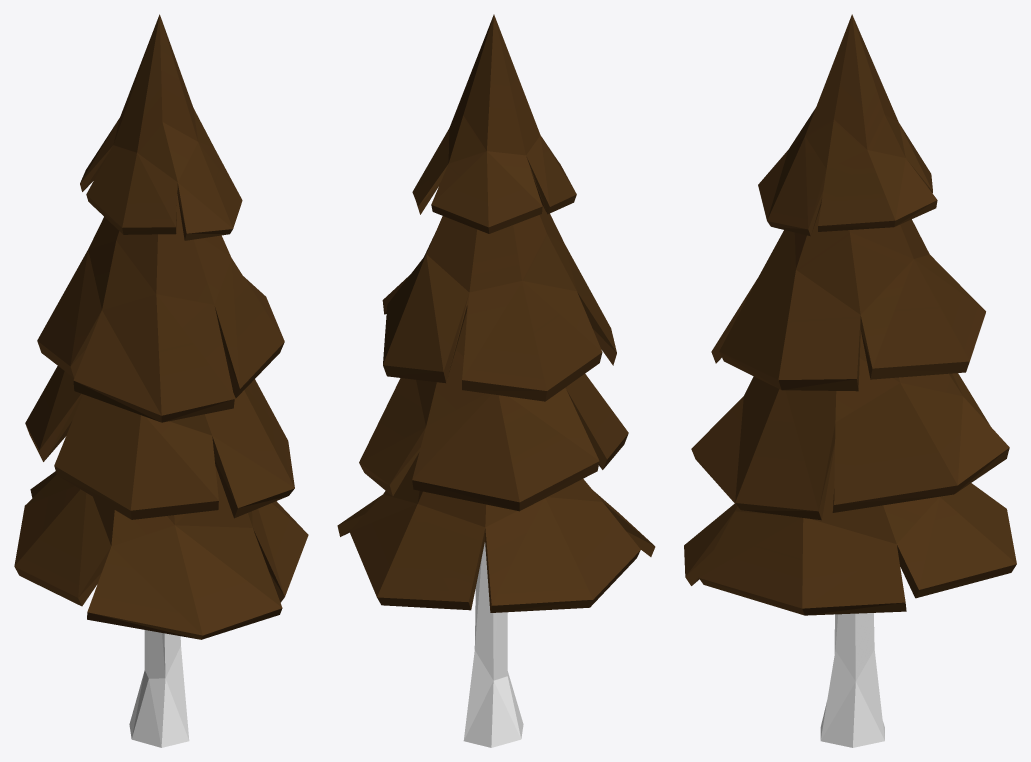
The model's file is firtree.gltf.
The picture shows the model from 3 angles, left to right: view 1: azimuth 30°, elevation 25°; view 2: azimuth 150°, elevation 25°; view 3: azimuth 270°, elevation 25°; orthographic projection.
Visible parts, largest first — view 1: fir_001; view 2: fir_001; view 3: fir_001.
Part boxes in pixels (left/top/right/bottom): fir_001: left=14, top=14, right=308, bottom=747; fir_001: left=337, top=14, right=655, bottom=747; fir_001: left=684, top=14, right=1016, bottom=747.
Bounding box in the file's own units: 0.4708 × 1.28 × 0.5372.
Materials: 1 (1 with a texture image).
